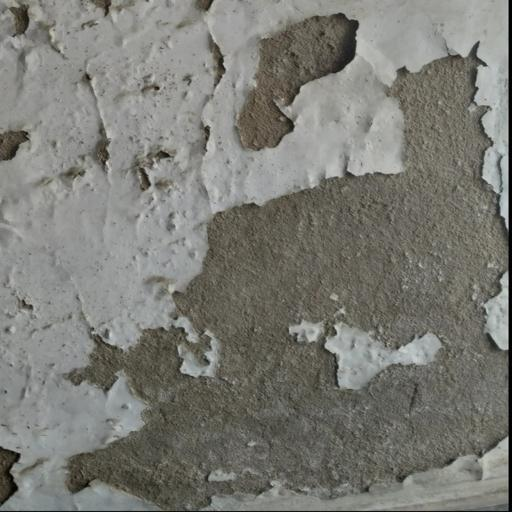peeling: (58, 26, 512, 505)
